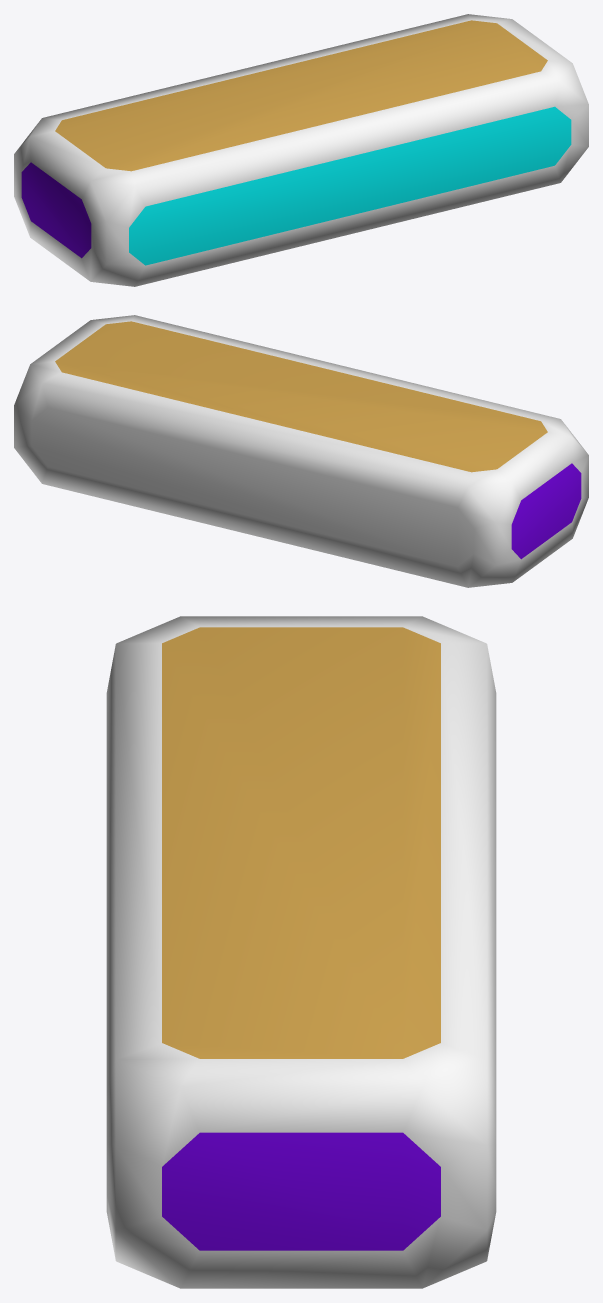
Rendered from D_FBX_15_Stick_B.fbx.
3 views of the same model, one above another, from view 1: azimuth 30°, elevation 25°; view 2: azimuth 150°, elevation 25°; view 3: azimuth 270°, elevation 25° (orthographic). The views are drawn at different scales.
Visible parts, largest first — view 1: D_FBX_15_Stick_B; view 2: D_FBX_15_Stick_B; view 3: D_FBX_15_Stick_B.
Part boxes in pixels (bbox=[...]): D_FBX_15_Stick_B: bbox=[14, 14, 588, 286]; D_FBX_15_Stick_B: bbox=[14, 315, 588, 587]; D_FBX_15_Stick_B: bbox=[106, 616, 496, 1288].
Size of the model in its own units: 305 by 65 by 105.
